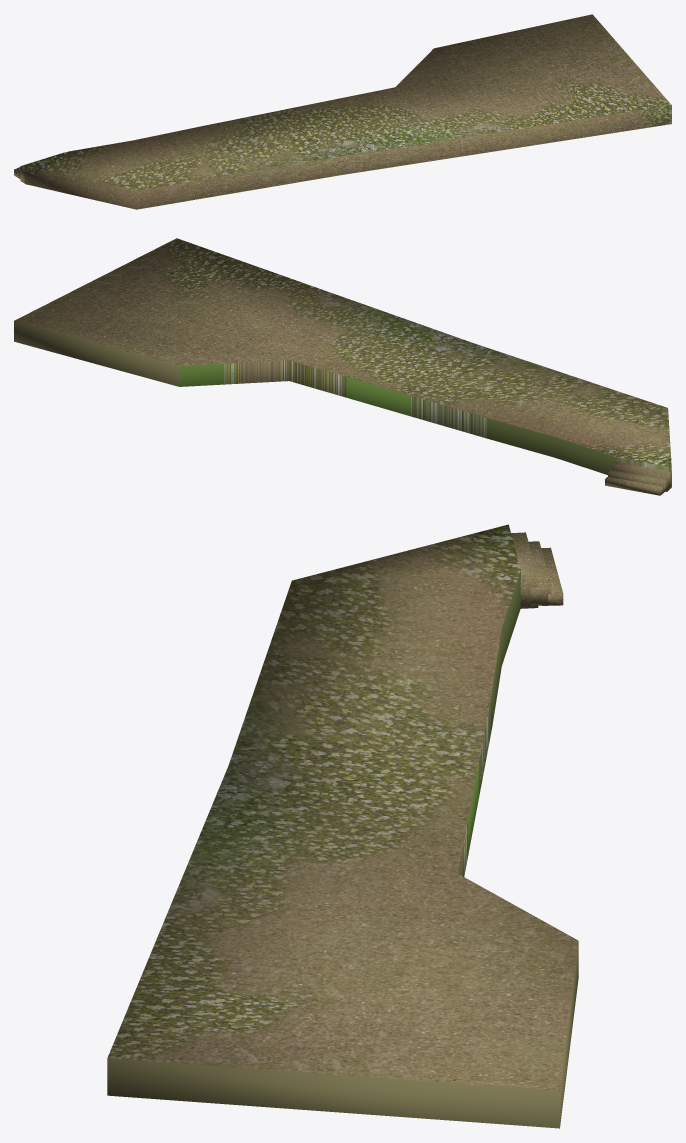
File: Elevacao2.fbx
3 renders of one model, top to bottom at view 1: azimuth 30°, elevation 25°; view 2: azimuth 150°, elevation 25°; view 3: azimuth 270°, elevation 25°, orthographic. The views are drawn at different scales.
Parts seen in each view (by area): view 1: Elevacao2; view 2: Elevacao2; view 3: Elevacao2.
Boxes of the visible parts, x1,y1,x2,y2 form: Elevacao2: (14, 14, 671, 209); Elevacao2: (14, 238, 671, 495); Elevacao2: (107, 524, 578, 1128).
Bounding box in the file's own units: 5471 × 1922 × 172.
